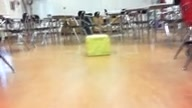cube: (84, 34, 111, 57)
